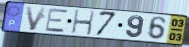6: (147, 15, 168, 41)
7: (94, 10, 118, 38)
9: (125, 15, 146, 40)
E: (44, 8, 69, 34)
H: (71, 9, 96, 37)
V: (24, 5, 48, 32)
